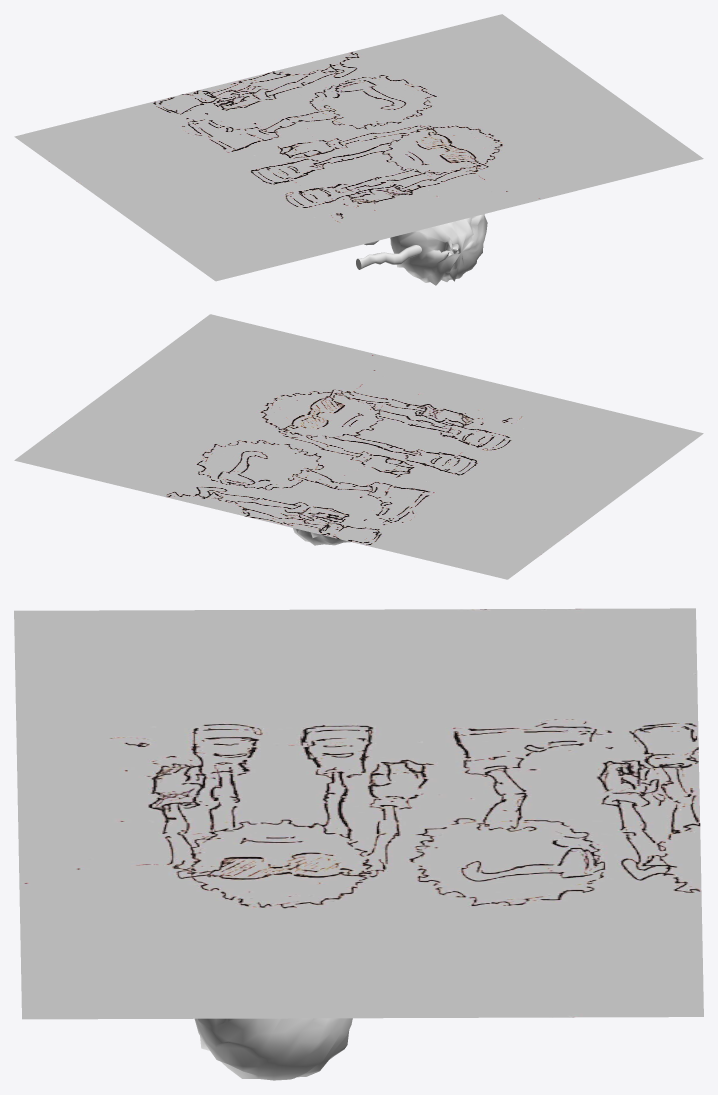
File: kødbollen.FBX
3 views of the same model, one above another, from view 1: azimuth 30°, elevation 25°; view 2: azimuth 150°, elevation 25°; view 3: azimuth 270°, elevation 25° (orthographic). The views are drawn at different scales.
Parts seen in each view (by area): view 1: Concept art, Sphere001, Cylinder001; view 2: Concept art, Sphere001; view 3: Concept art, Sphere001.
Boxes of the visible parts, x1,y1,x2,y2 form: Concept art: (14,14,703,281); Sphere001: (390,214,487,285); Cylinder001: (356,245,421,269); Concept art: (14,314,703,579); Sphere001: (293,528,350,545); Concept art: (14,608,703,1019); Sphere001: (194,1018,352,1080).
Size of the model in its own units: 107 by 25.94 by 75.48.
1 material, 1 textured.
